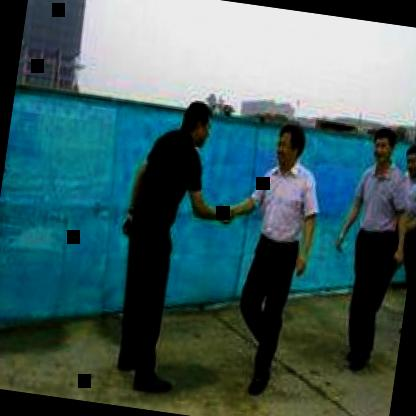head: (270, 116, 310, 173), (178, 96, 215, 152), (366, 120, 400, 168), (400, 137, 416, 180)
